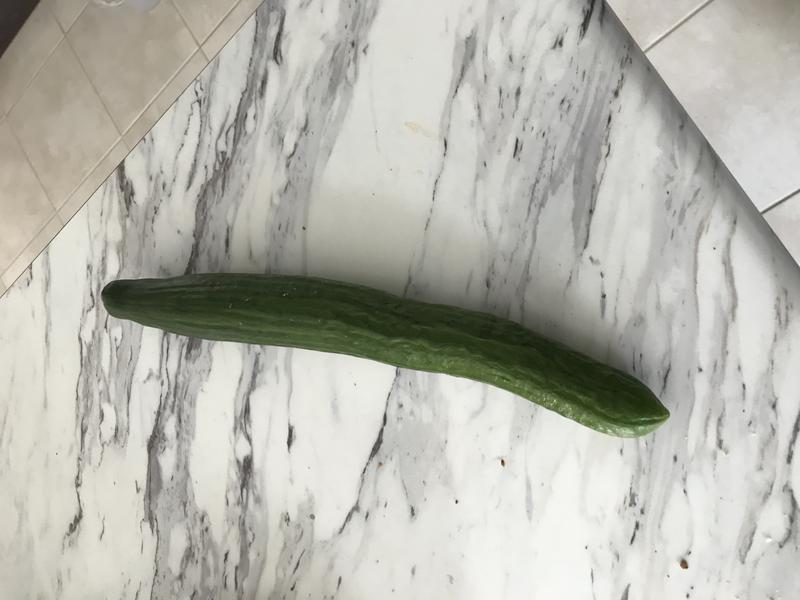cucumber: (89, 267, 678, 445)
